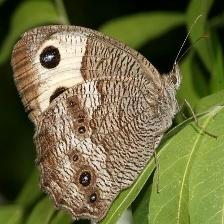butterfly: (11, 25, 181, 222)
